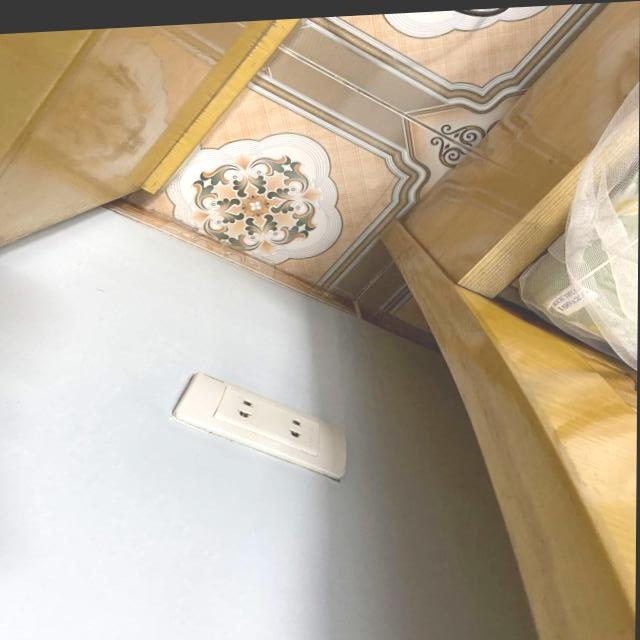outlet: (172, 363, 348, 490)
